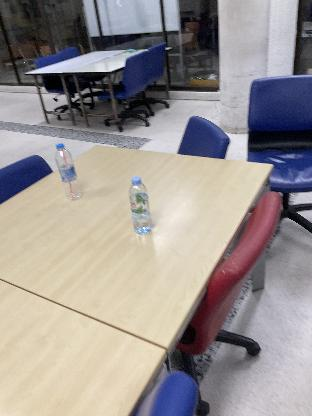Plastic Bottle: (54, 142, 84, 202), (128, 176, 156, 236)
